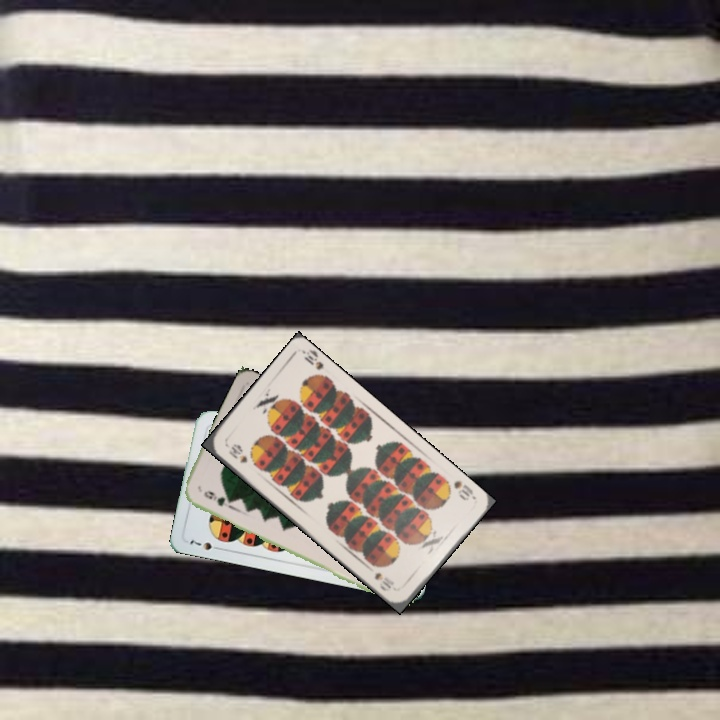G9: (200, 487, 228, 509)
S10: (449, 476, 478, 503), (222, 440, 250, 466)
S7: (186, 536, 224, 553)
